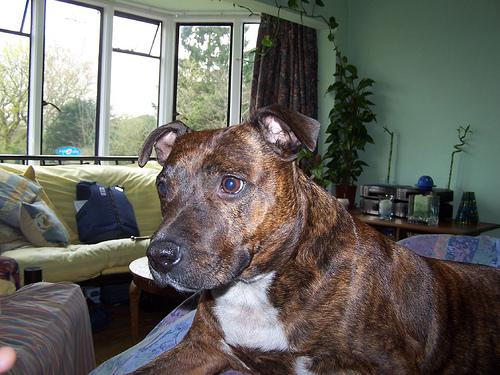dog-staffordshire_bull_terrier: (137, 102, 318, 291)
